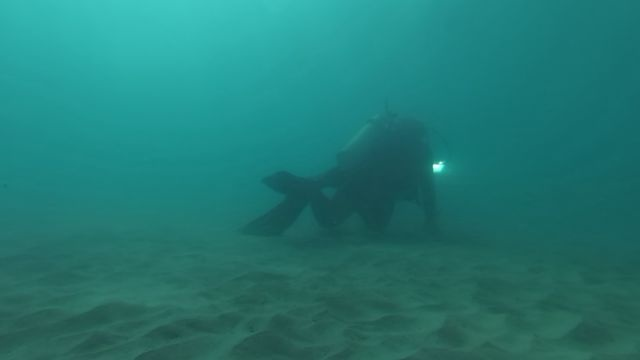Diver: (233, 112, 459, 252)
Hand: (418, 215, 450, 244)
